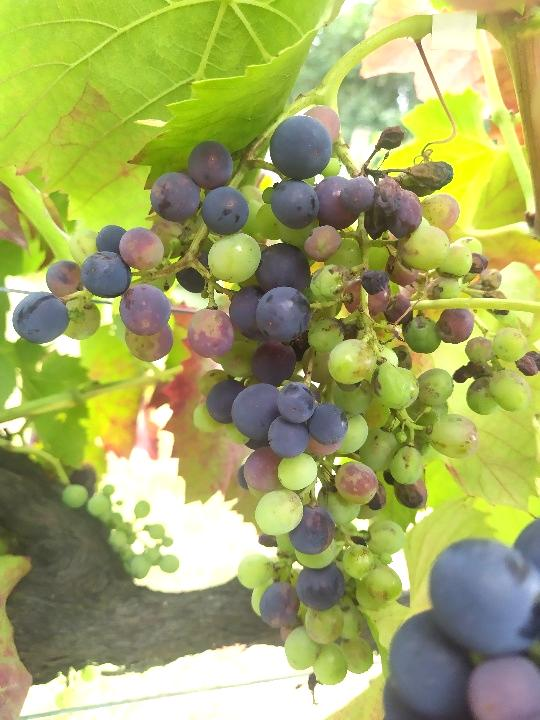grape: (10, 100, 540, 687)
